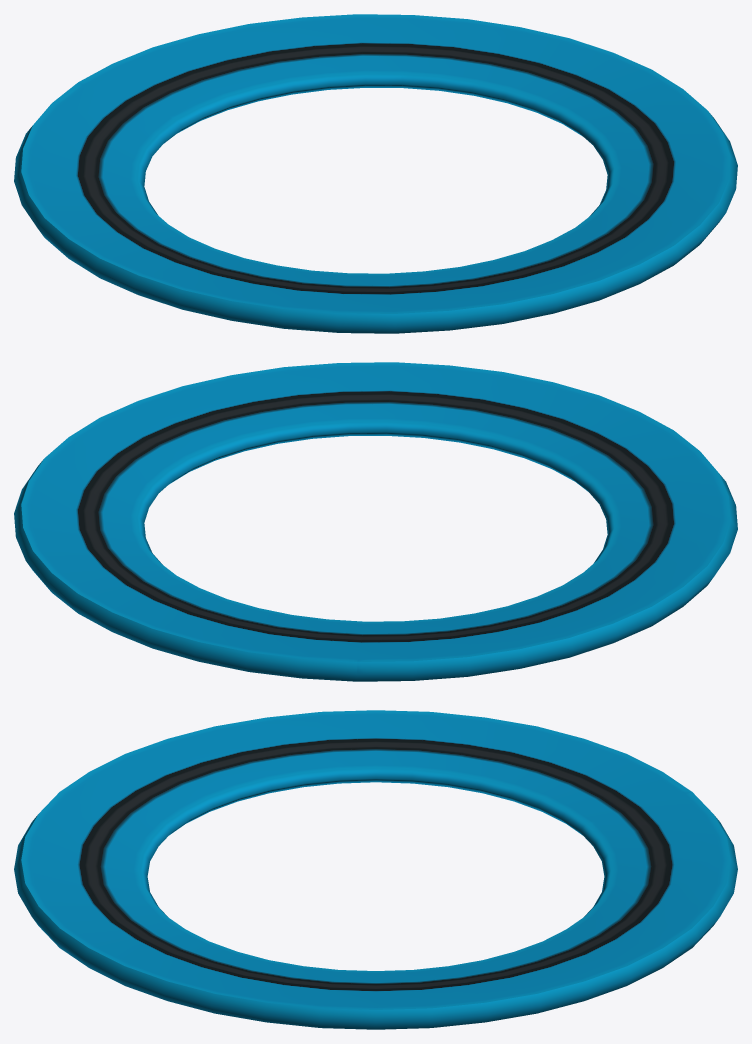
The model's file is Frisbee_Blue_Scaled.fbx.
3 views of the same model, one above another, from view 1: azimuth 30°, elevation 25°; view 2: azimuth 150°, elevation 25°; view 3: azimuth 270°, elevation 25° (orthographic).
Parts seen in each view (by area): view 1: Frisbee1; view 2: Frisbee1; view 3: Frisbee1.
Boxes of the visible parts, x1,y1,x2,y2 form: Frisbee1: [14, 14, 737, 333]; Frisbee1: [14, 362, 737, 681]; Frisbee1: [14, 710, 737, 1029].
Bounding box in the file's own units: 41.46 × 1.49 × 41.46.
